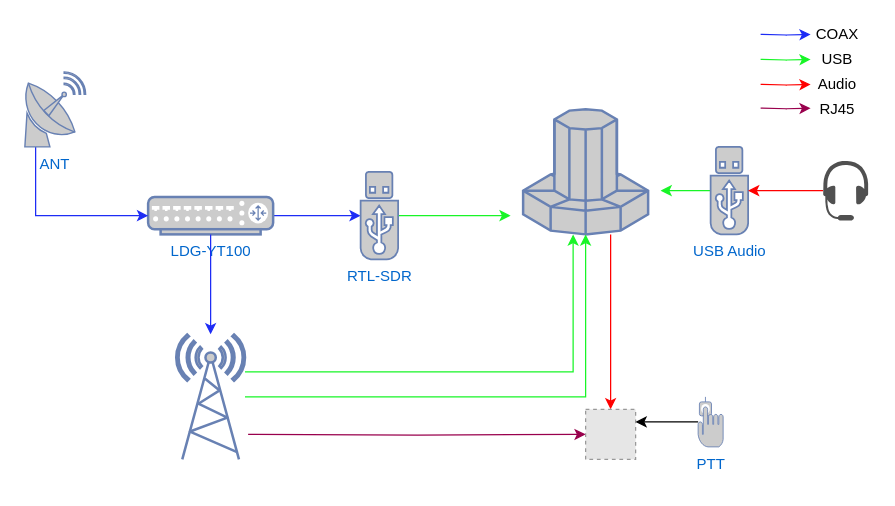
Image size: 895x506. Some labels were removed from this diagram. Grey dashed boxes stand in for pictures. The centre of each missing label's shape, as x and y in pixels:
Headset: the point at 845,190
YAESU FT-857D: the point at 210,396
